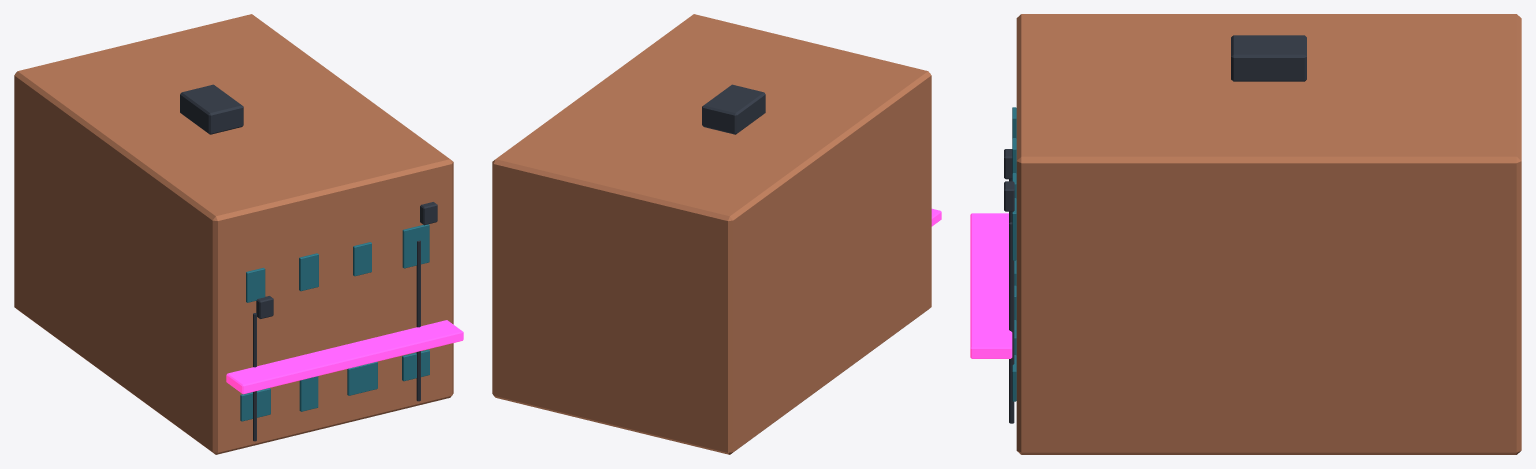
Rendered from building_028_seed11.glb.
The picture shows the model from 3 angles, left to right: view 1: azimuth 30°, elevation 25°; view 2: azimuth 150°, elevation 25°; view 3: azimuth 270°, elevation 25°; orthographic projection. The views are drawn at different scales.
Parts seen in each view (by area): view 1: building_028_seed11; view 2: building_028_seed11; view 3: building_028_seed11.
Part boxes in pixels (left/top/right/bottom): building_028_seed11: left=14, top=14, right=463, bottom=454; building_028_seed11: left=492, top=14, right=941, bottom=454; building_028_seed11: left=970, top=14, right=1521, bottom=454.
Bounding box in the file's own units: 5.82 × 6.01 × 9.22.
